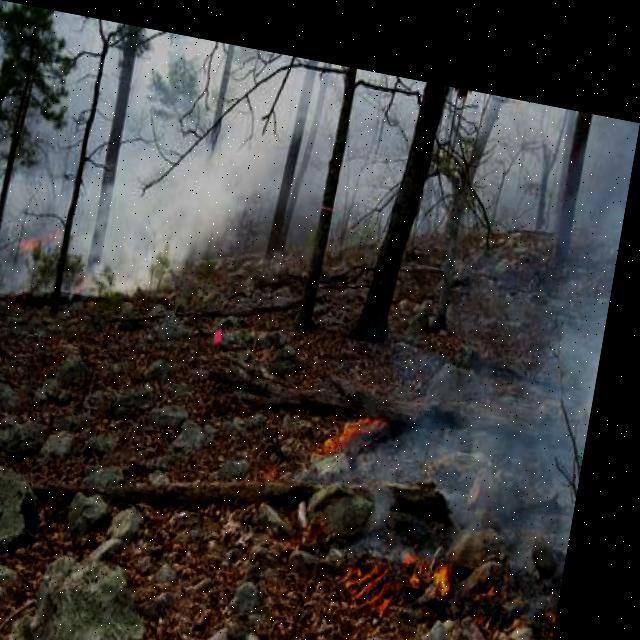Fire: (356, 512, 481, 614), (326, 386, 411, 456)
